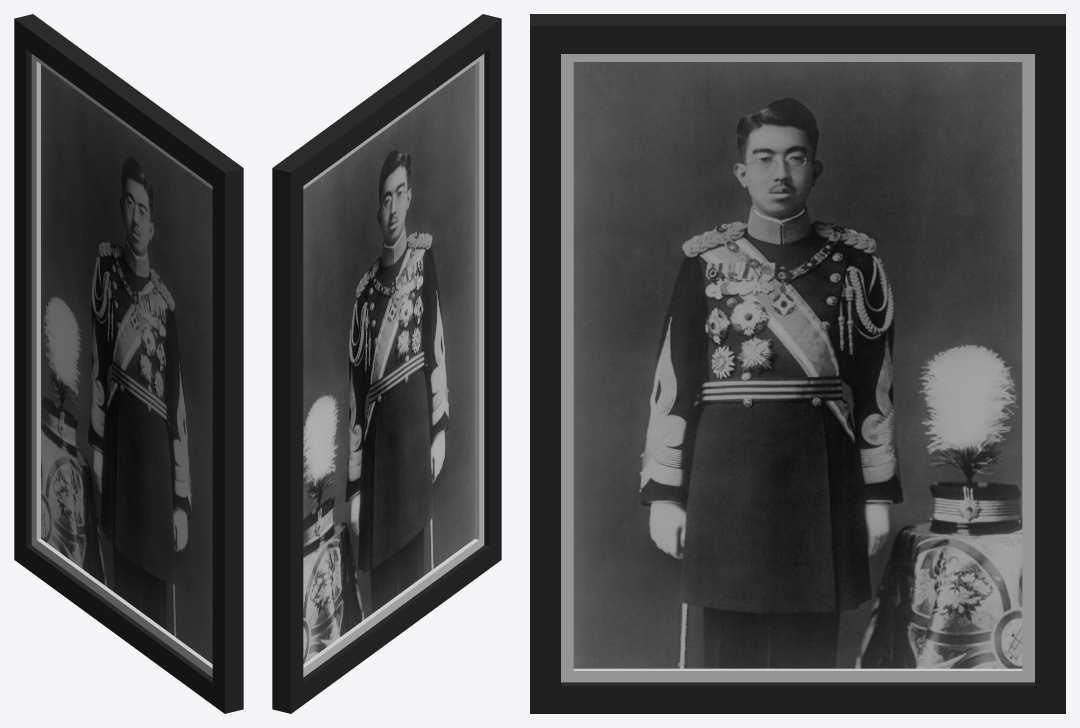
Rendered from potrait_hirohito.fbx.
The picture shows the model from 3 angles, left to right: view 1: azimuth 30°, elevation 25°; view 2: azimuth 150°, elevation 25°; view 3: azimuth 270°, elevation 25°; orthographic projection. The views are drawn at different scales.
Parts seen in each view (by area): view 1: hirohito painting; view 2: hirohito painting; view 3: hirohito painting.
Boxes of the visible parts, x1,y1,x2,y2 form: hirohito painting: [14, 14, 243, 713]; hirohito painting: [272, 14, 501, 713]; hirohito painting: [530, 14, 1065, 713].
Bounding box in the file's own units: 3.04 × 82.83 × 58.45.
3 materials, 1 textured.
